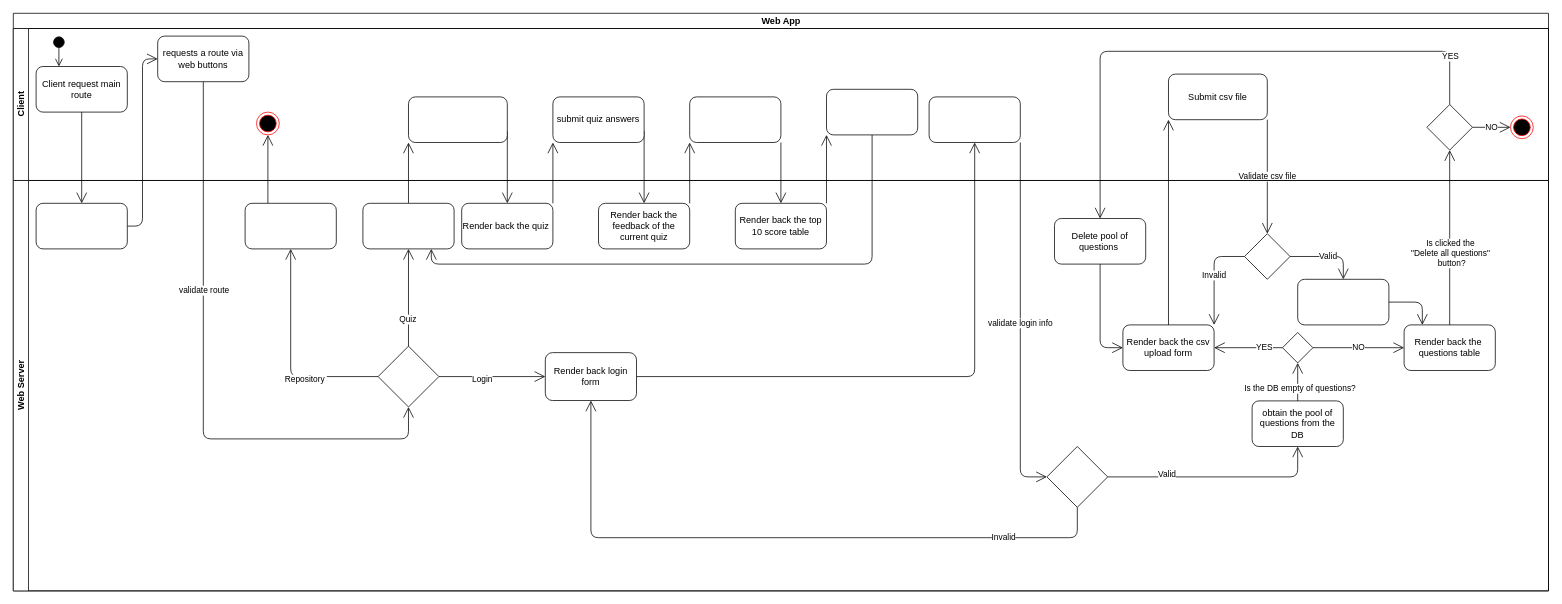
This 1562x604 diagram has some shape labels left out. The shapes that lost their labels are listed below. From the top down, each one's box as (x1, y1, x2, y2) in pixels, then its label:
(408, 96, 507, 142): submit the set up quiz form
(689, 96, 781, 142): click continue button
(826, 89, 918, 135): click restart button
(928, 96, 1020, 142): submit login form
(35, 203, 127, 249): Render back main route
(244, 203, 336, 249): Redirect to github repository
(362, 203, 454, 249): Render back quiz set up form
(1297, 279, 1389, 325): Upload questions to DB
